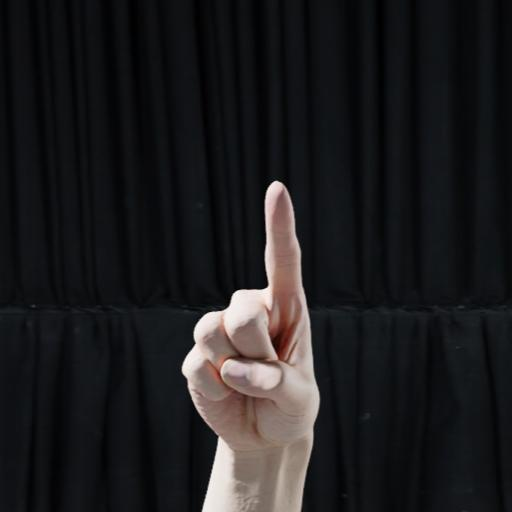Z: (174, 169, 356, 512)
